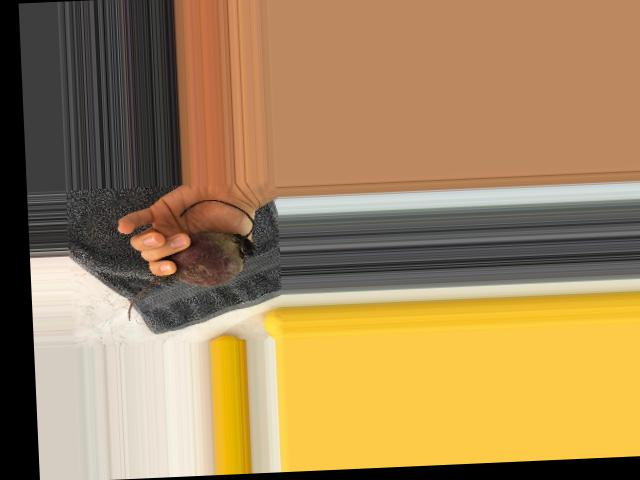beet: (123, 197, 256, 320)
